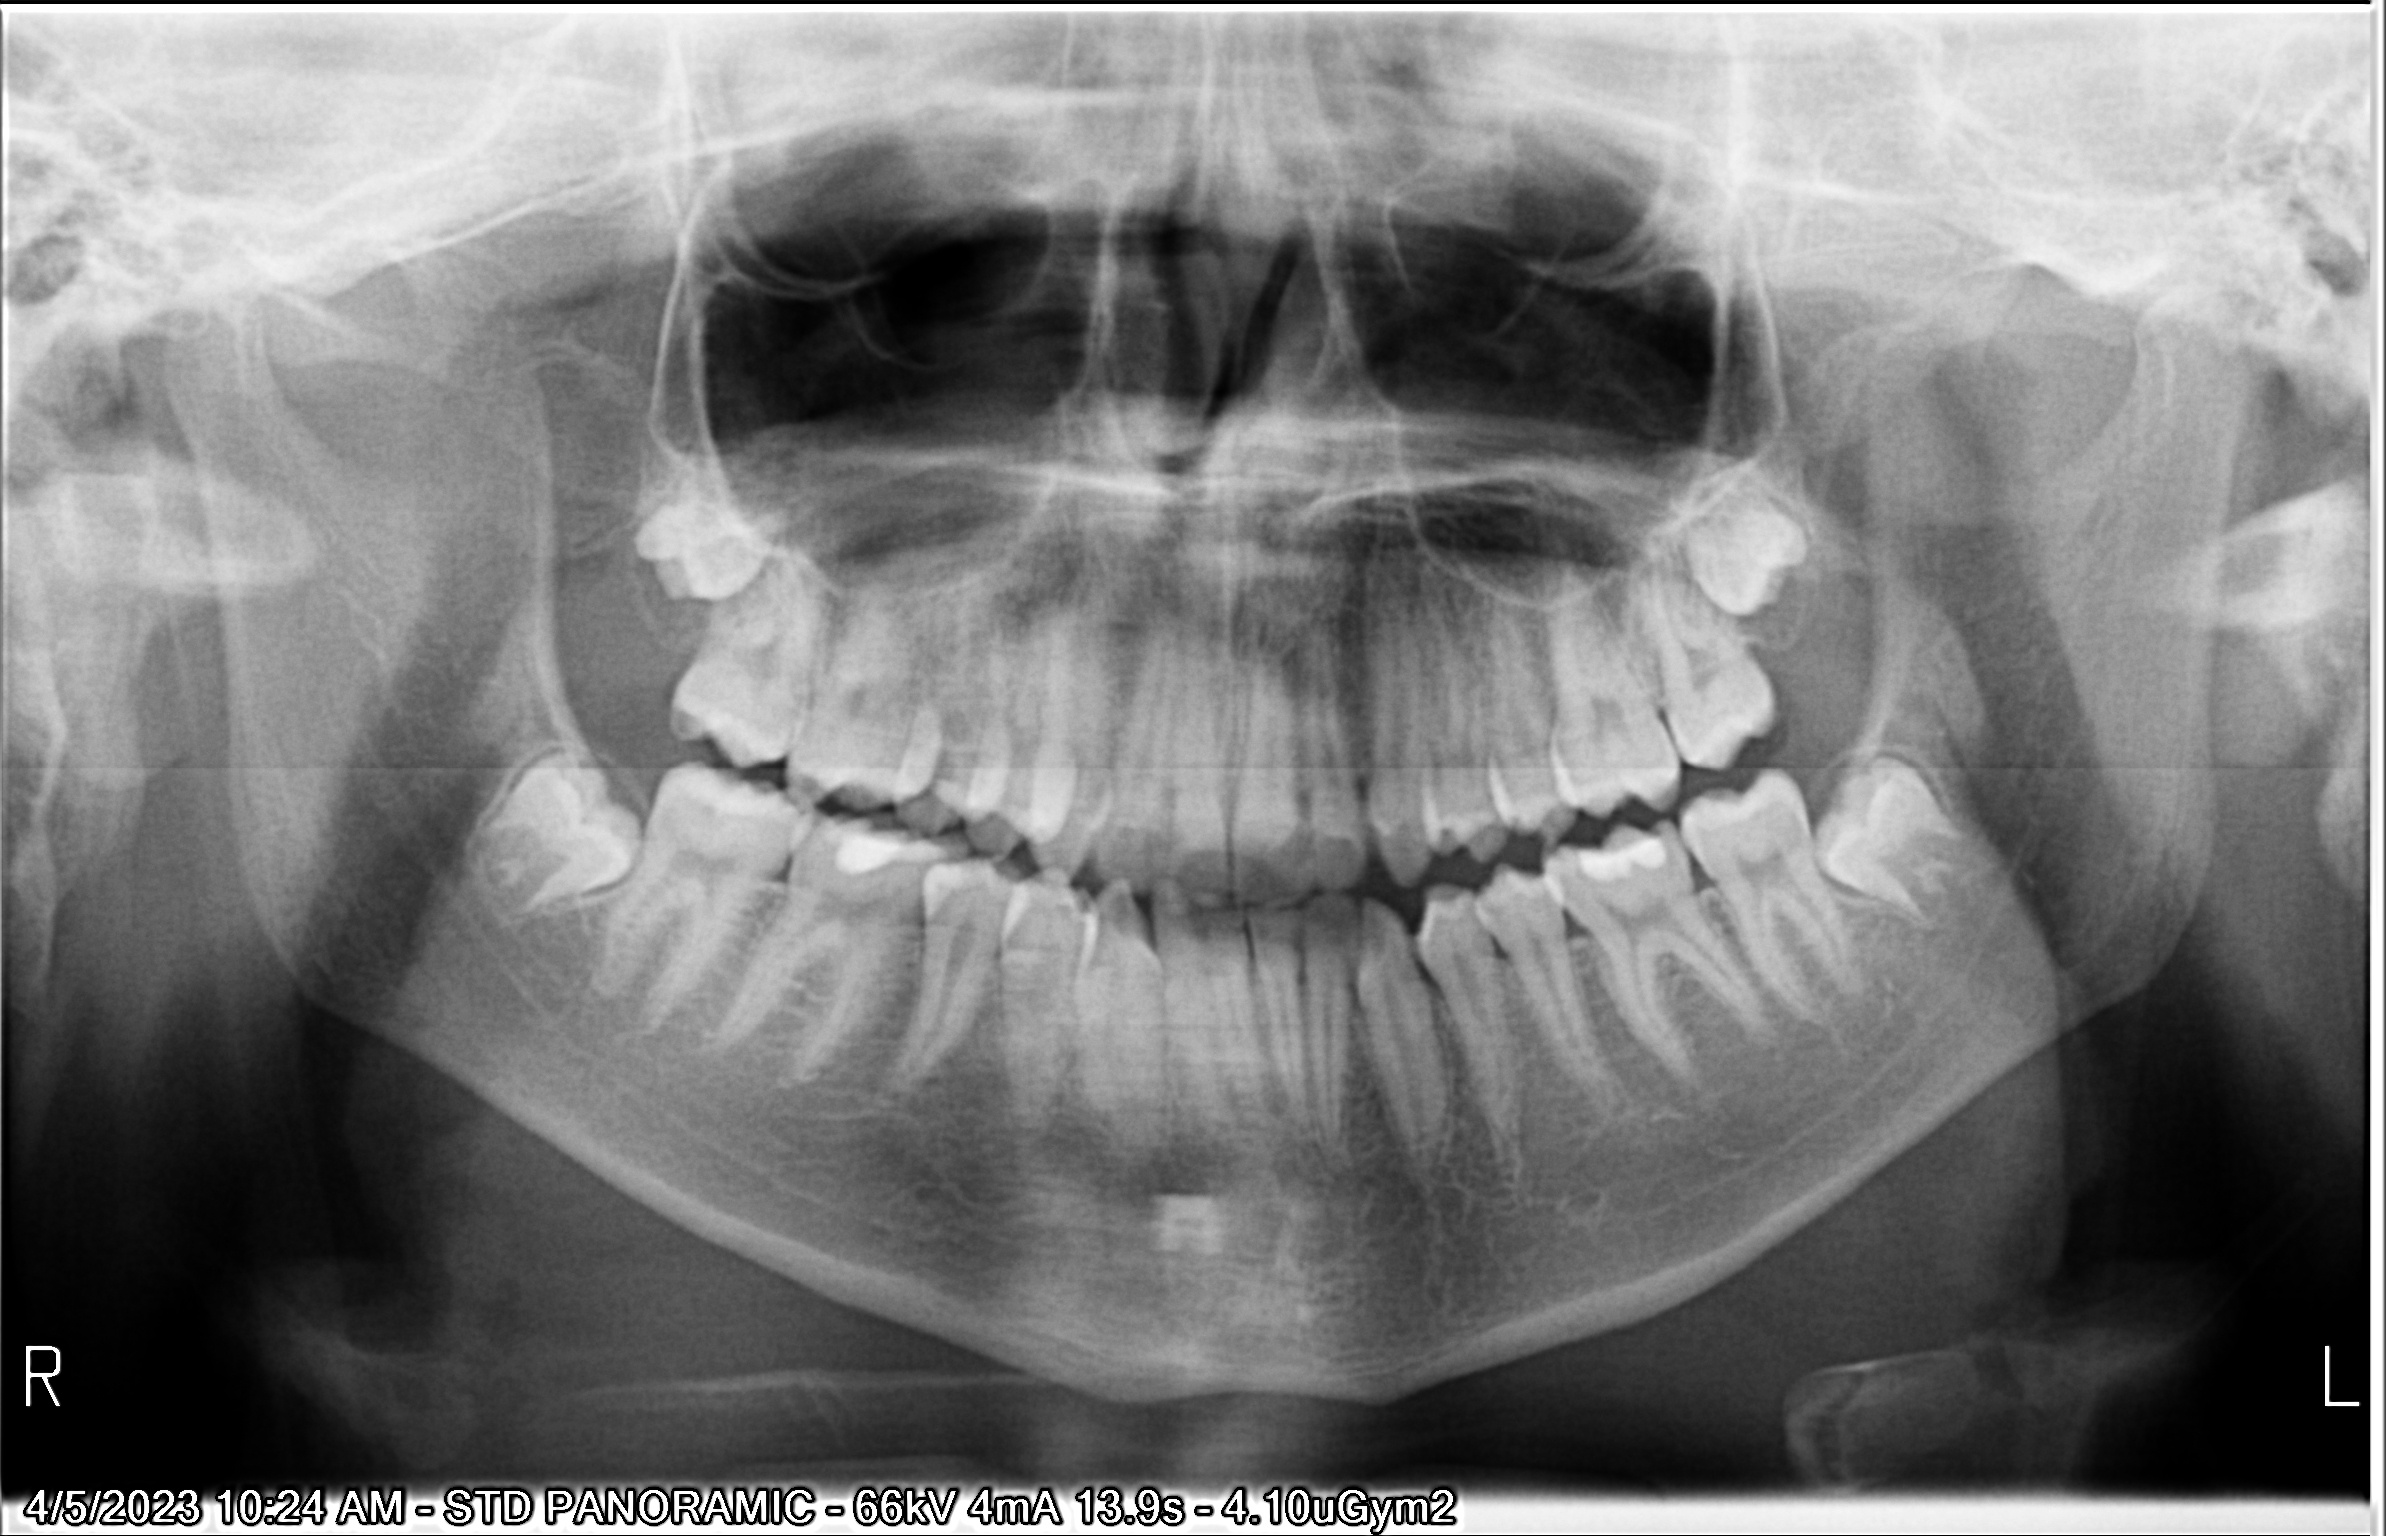CAR: (692, 795, 729, 838)
IMT: (430, 696, 626, 927), (1657, 445, 1845, 628), (1805, 757, 1995, 915), (612, 492, 763, 605)
OBT: (835, 818, 946, 891), (1584, 849, 1675, 892)
